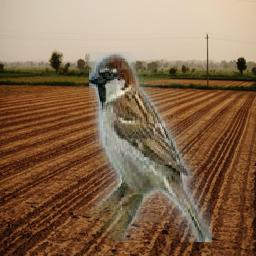Sparrow: (90, 52, 213, 242)
